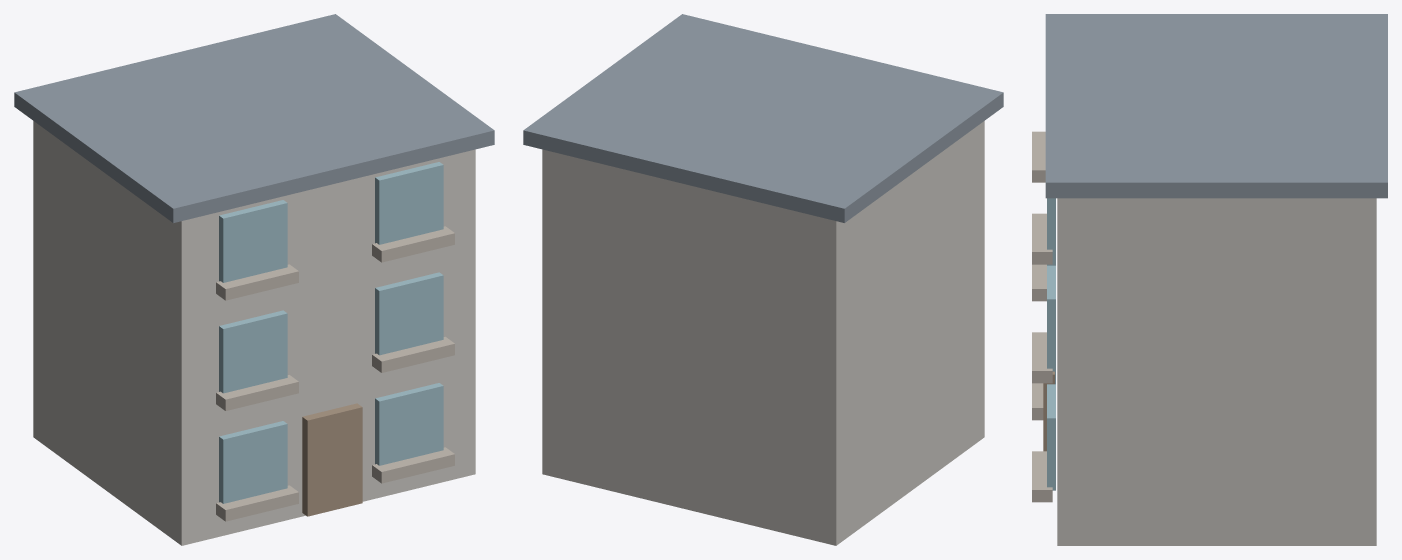
Rendered from villa.glb.
3 renders of one model, left to right at view 1: azimuth 30°, elevation 25°; view 2: azimuth 150°, elevation 25°; view 3: azimuth 270°, elevation 25°, orthographic. The views are drawn at different scales.
Size of the model in its own units: 3.5 by 3.59 by 3.12.
